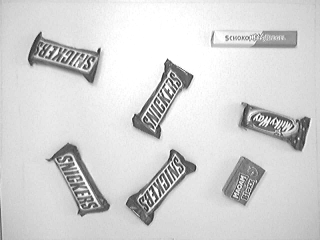Maoam: (219, 154, 268, 207)
Milkyway: (237, 98, 312, 153)
Riegel: (208, 26, 299, 50)
Snickers: (121, 147, 198, 226), (129, 55, 196, 141), (43, 141, 111, 217), (25, 29, 105, 87)
